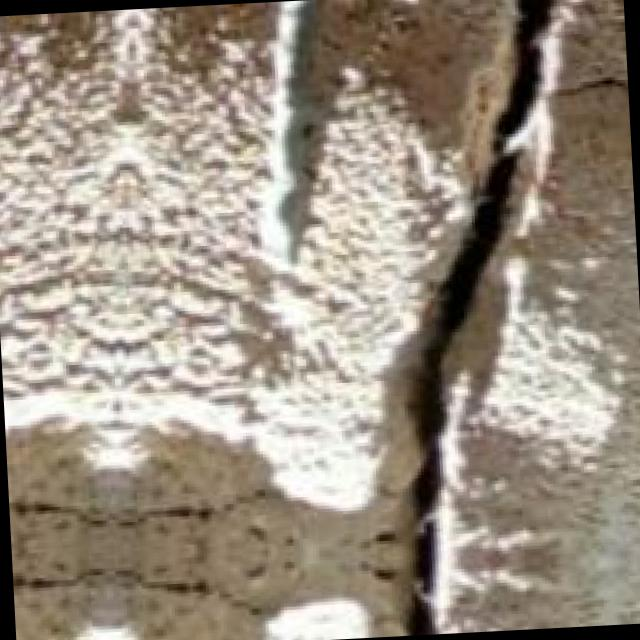crack: (341, 0, 608, 634)
